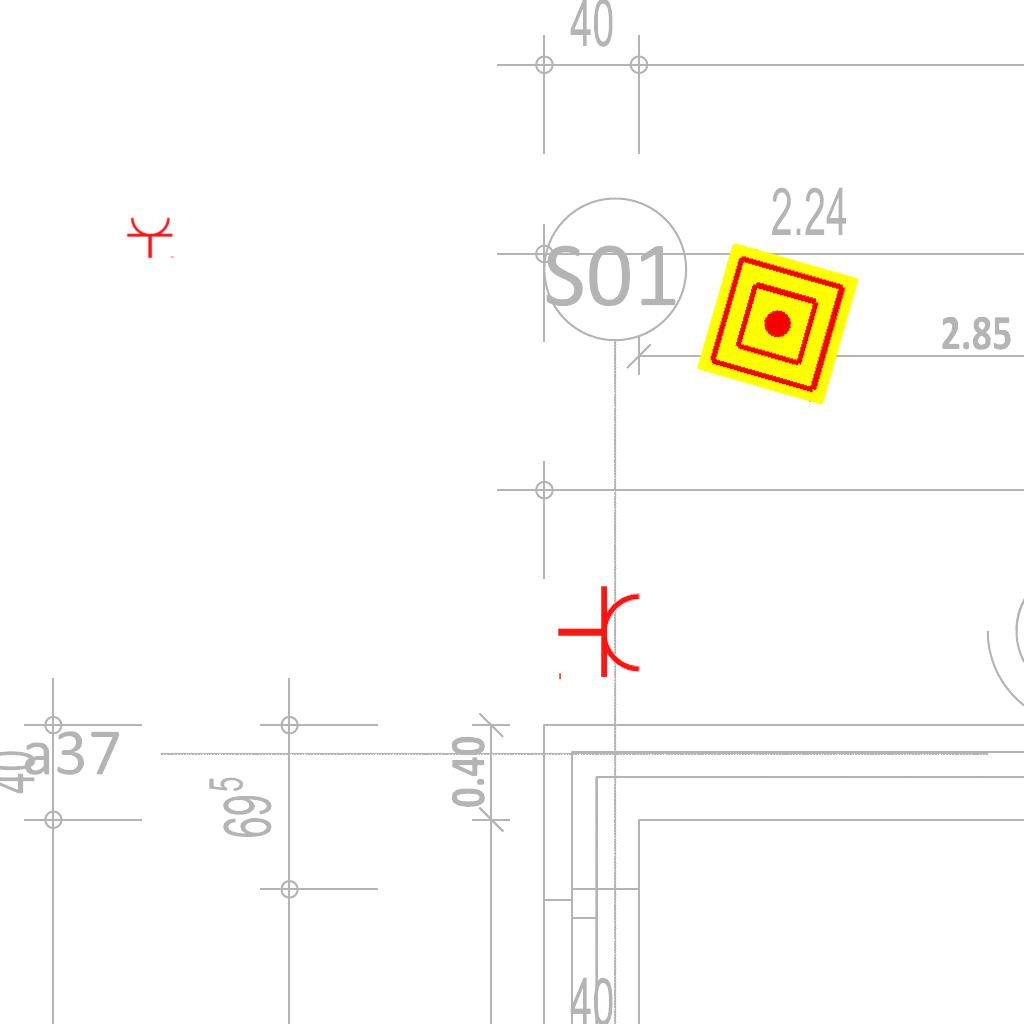NAM-Nichtautomatischer_Melder: (696, 242, 860, 406)
Schukosteckdose_einfach: (556, 584, 643, 684), (126, 216, 176, 259)
